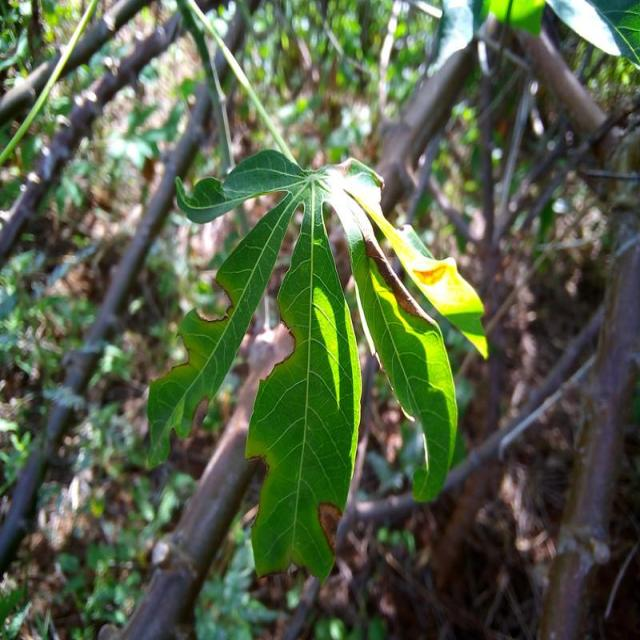cassava leaf: (146, 146, 489, 583), (245, 181, 363, 584), (334, 168, 460, 502)
